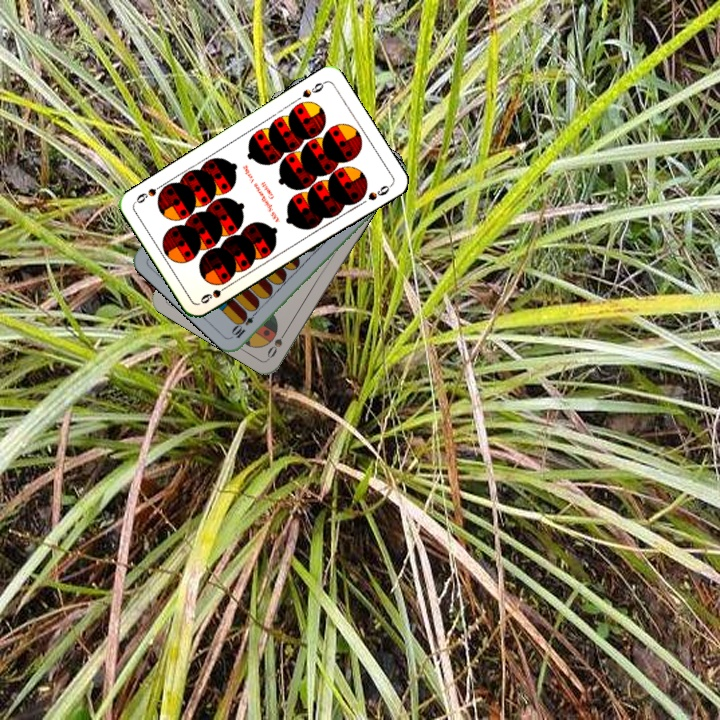E10: (229, 305, 261, 341)
S9: (196, 280, 233, 306), (298, 77, 328, 100)
SO: (263, 324, 291, 361)
